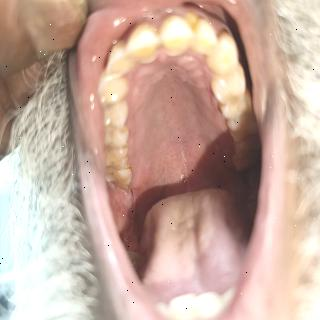plaque: (184, 10, 203, 36)
stains: (130, 20, 158, 40), (193, 9, 213, 33), (157, 16, 179, 36), (216, 21, 232, 45), (122, 144, 134, 168), (122, 162, 134, 182), (230, 152, 242, 171), (120, 125, 130, 143), (230, 140, 240, 154)
